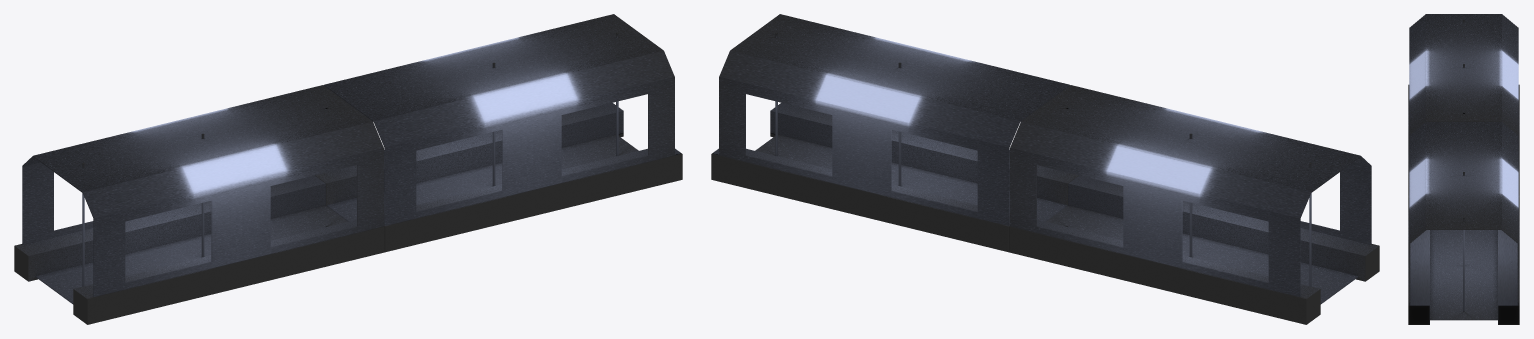
File: metro2.glb
3 views of the same model, side by side, from view 1: azimuth 30°, elevation 25°; view 2: azimuth 150°, elevation 25°; view 3: azimuth 270°, elevation 25° (orthographic). The views are drawn at different scales.
Parts seen in each view (by area): view 1: Cube.003, Cube.001, Cube.004, Cube.002; view 2: Cube.003, Cube.001, Cube.004, Cube.002; view 3: Cube.001, Cube.003, Cube.002, Cube.004, Cylinder.001.
Part boxes in pixels (x1,y1,x2,y2): Cube.003: [22, 85, 383, 304]; Cube.001: [323, 14, 674, 225]; Cube.004: [14, 175, 384, 324]; Cube.002: [315, 103, 682, 252]; Cube.003: [1010, 85, 1371, 304]; Cube.001: [719, 14, 1070, 225]; Cube.004: [1009, 175, 1379, 324]; Cube.002: [711, 103, 1078, 252]; Cube.001: [1409, 122, 1518, 320]; Cube.003: [1409, 14, 1518, 135]; Cube.002: [1408, 195, 1519, 324]; Cube.004: [1408, 84, 1519, 195]; Cylinder.001: [1463, 217, 1464, 311].
Bounding box in the file's own units: 11.45 × 2.36 × 2.44.
4 materials, 3 textured.
